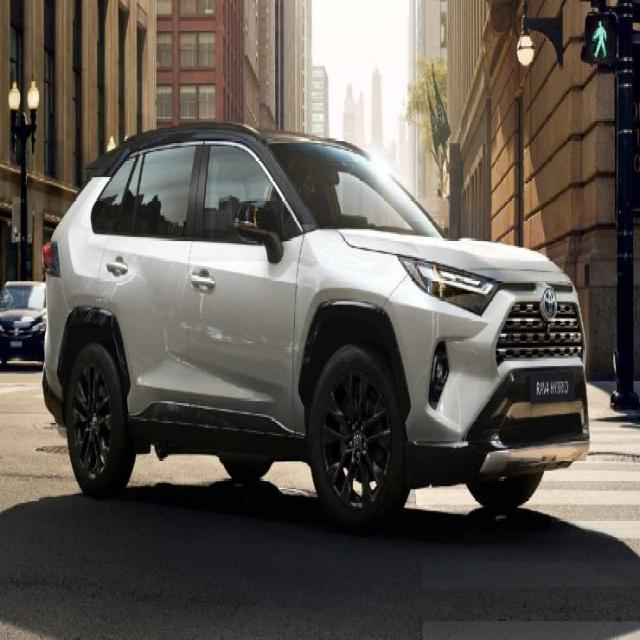light_vehicle: (41, 122, 591, 533)
